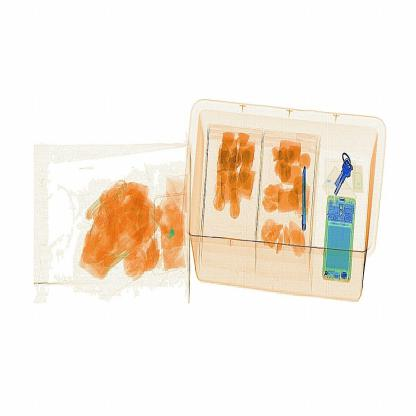pliers: (289, 153, 313, 240)
